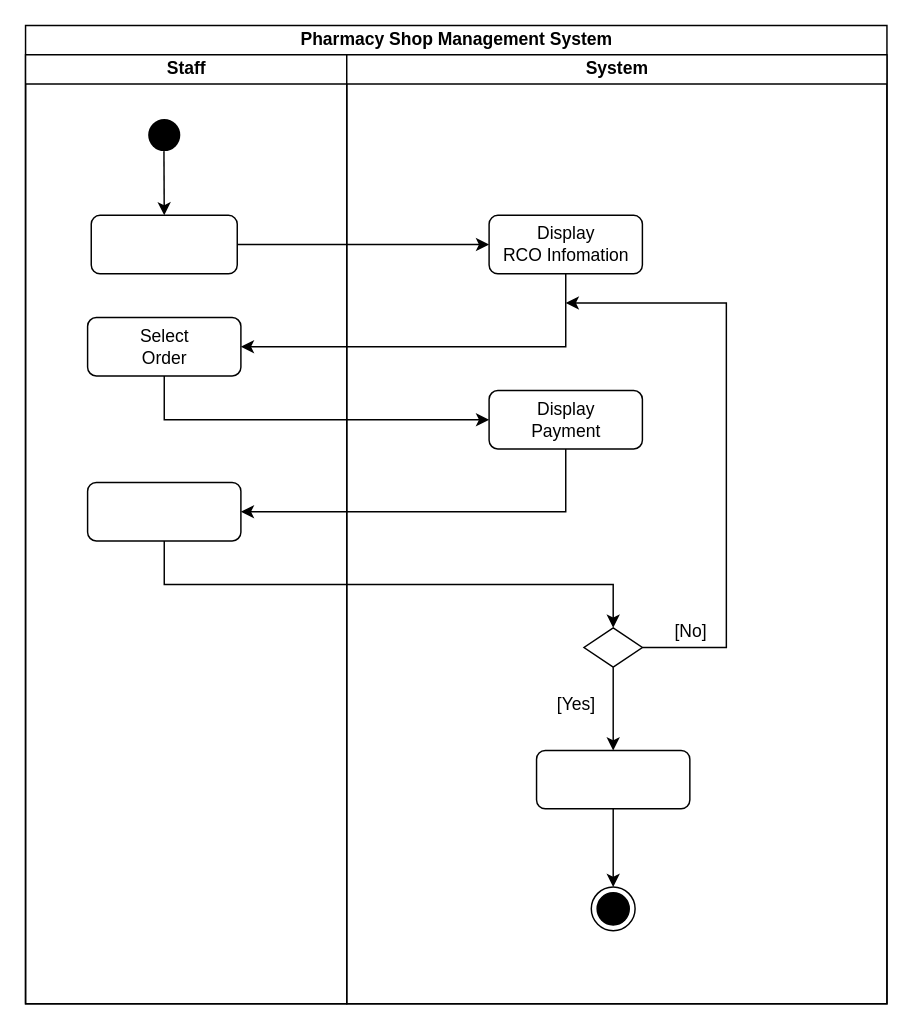
Some shapes in this 913 by 1029 pixel diagram are drawn without their labels. Each missing label, with the centre of its shape:
"Cliack Pay" belongs at [163,511].
"Click RCO Payment" belongs at [163,244].
"Update sales Details" belongs at [612,779].
